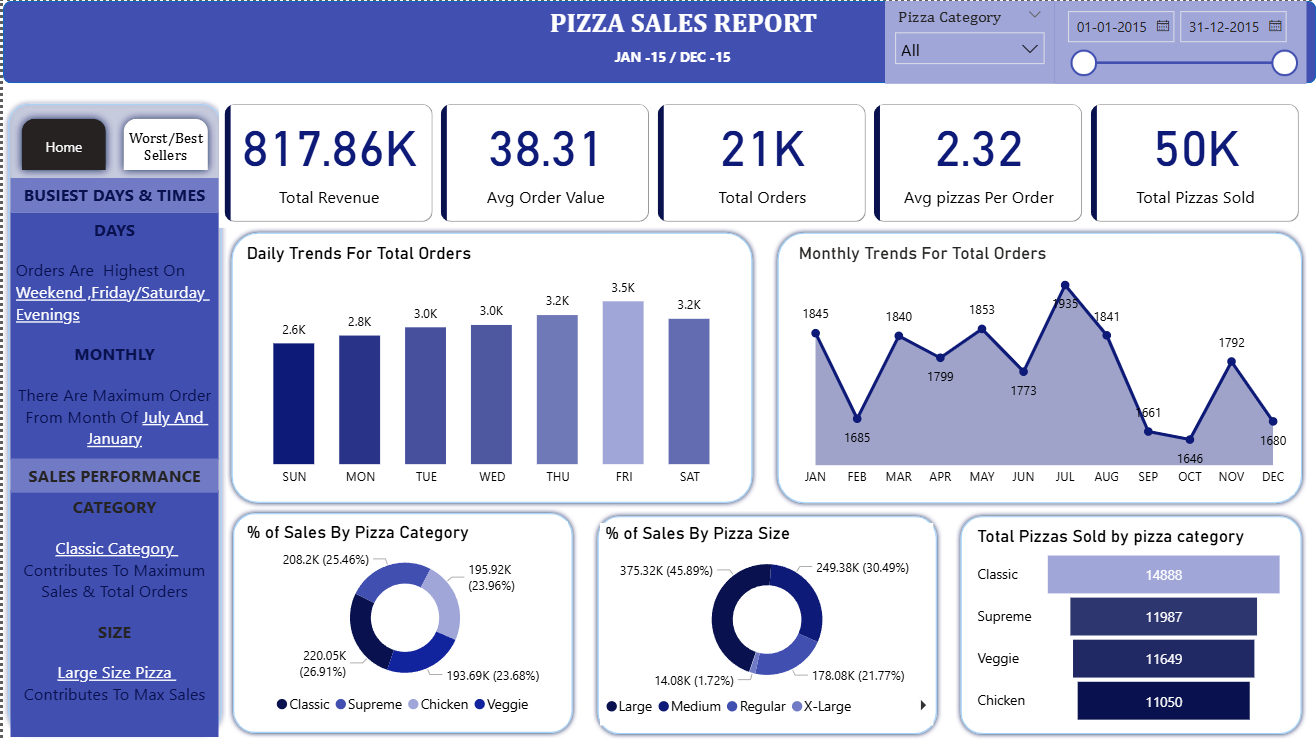

The dashboard page shown, as its layout file describes it:
{"tool":"powerbi","page":{"name":"Home","canvas":[1280,720],"ordinal":0},"visuals":[{"type":"shape","box":[0,95.4,218,623.9],"z":0},{"type":"cardVisual","fields":{"Data":["pizza_sales.Total Revenue","pizza_sales.Avg Order Value","pizza_sales.Total Orders","pizza_sales.Avg pizzas Per Order","pizza_sales.Total Pizzas Sold"]},"box":[210.5,95.4,1059.9,125.7],"z":1000},{"type":"shape","box":[0,0,1279.5,80.3],"z":2000},{"type":"textbox","box":[527.6,0,296.7,67.2],"z":3000},{"type":"textbox","box":[507.1,39.5,290.8,46.8],"z":4000},{"type":"shape","box":[217.8,220.7,517.4,273.3],"z":5000},{"type":"shape","box":[749.3,220.8,520.8,273.6],"z":6000},{"type":"columnChart","title":"Daily Trends For Total Orders","fields":{"Y":["pizza_sales.Total Orders"],"Category":["pizza_sales.Order Day"]},"box":[231.6,234.8,488.2,245.6],"z":7000},{"type":"areaChart","title":"Monthly Trends For Total Orders","fields":{"Category":["pizza_sales.Order Month"],"Y":["pizza_sales.Total Orders"]},"box":[769.6,234.8,488.2,245.6],"z":8000},{"type":"shape","box":[219.6,493.6,340.7,224.1],"z":9000},{"type":"shape","box":[573.7,497.5,340.5,222.3],"z":10000},{"type":"shape","box":[928.1,497.5,342,222.3],"z":11000},{"type":"donutChart","title":"% of Sales By Pizza Category","fields":{"Y":["pizza_sales.Total Revenue"],"Category":["pizza_sales.pizza_category"]},"box":[231.7,507.3,318,196.8],"z":12000},{"type":"donutChart","title":"% of Sales By Pizza Size","fields":{"Y":["pizza_sales.Total Revenue"],"Category":["pizza_sales.pizza_size"]},"box":[581.4,508.4,324.9,197.4],"z":13000},{"type":"funnel","title":"Total Pizzas Sold by pizza category","fields":{"Category":["pizza_sales.pizza_category"],"Y":["pizza_sales.Total Pizzas Sold"]},"box":[943.7,511.5,309.4,197.4],"z":14000},{"type":"textbox","box":[7.6,172.6,202.9,33.3],"z":15000},{"type":"textbox","box":[7.6,205.9,202.9,240.8],"z":16000},{"type":"textbox","box":[7.6,477,202.9,240.8],"z":17000},{"type":"textbox","box":[7.6,445.2,202.9,33.3],"z":18000},{"type":"slicer","fields":{"Values":["pizza_sales.pizza_category"]},"box":[859.3,0,165.1,80.4],"z":19000},{"type":"slicer","fields":{"Values":["pizza_sales.order_date"]},"box":[1025.1,0,245.3,80.3],"z":20000},{"type":"pageNavigator","box":[10.6,106,98.4,66.6],"z":21000},{"type":"pageNavigator","box":[109,106,98.4,66.6],"z":22000}]}

Visuals, with their boxes in screenshot pixels (x1, y1, x2, y2), scaled from the page's 1280x720 canvas onto the 1316x740 screenshot:
shape: bbox=(0, 98, 224, 739)
cardVisual - pizza_sales.Total Revenue x pizza_sales.Avg Order Value: bbox=(216, 98, 1306, 227)
shape: bbox=(0, 0, 1315, 83)
textbox: bbox=(542, 0, 847, 69)
textbox: bbox=(521, 41, 820, 89)
shape: bbox=(224, 227, 756, 508)
shape: bbox=(770, 227, 1306, 508)
"Daily Trends For Total Orders" columnChart: bbox=(238, 241, 740, 494)
"Monthly Trends For Total Orders" areaChart: bbox=(791, 241, 1293, 494)
shape: bbox=(226, 507, 576, 738)
shape: bbox=(590, 511, 940, 739)
shape: bbox=(954, 511, 1306, 739)
"% of Sales By Pizza Category" donutChart: bbox=(238, 521, 565, 724)
"% of Sales By Pizza Size" donutChart: bbox=(598, 523, 932, 725)
"Total Pizzas Sold by pizza category" funnel: bbox=(970, 526, 1288, 729)
textbox: bbox=(8, 177, 216, 212)
textbox: bbox=(8, 212, 216, 459)
textbox: bbox=(8, 490, 216, 738)
textbox: bbox=(8, 458, 216, 492)
slicer - pizza_sales.pizza_category: bbox=(883, 0, 1053, 83)
slicer - pizza_sales.order_date: bbox=(1054, 0, 1306, 83)
pageNavigator: bbox=(11, 109, 112, 177)
pageNavigator: bbox=(112, 109, 213, 177)
